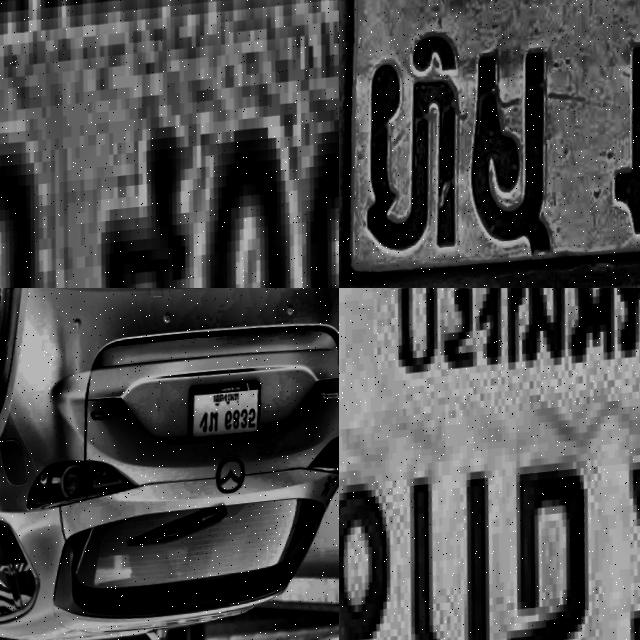license-plate: (339, 288, 640, 640), (0, 0, 339, 288), (339, 0, 640, 288), (186, 371, 278, 452)
